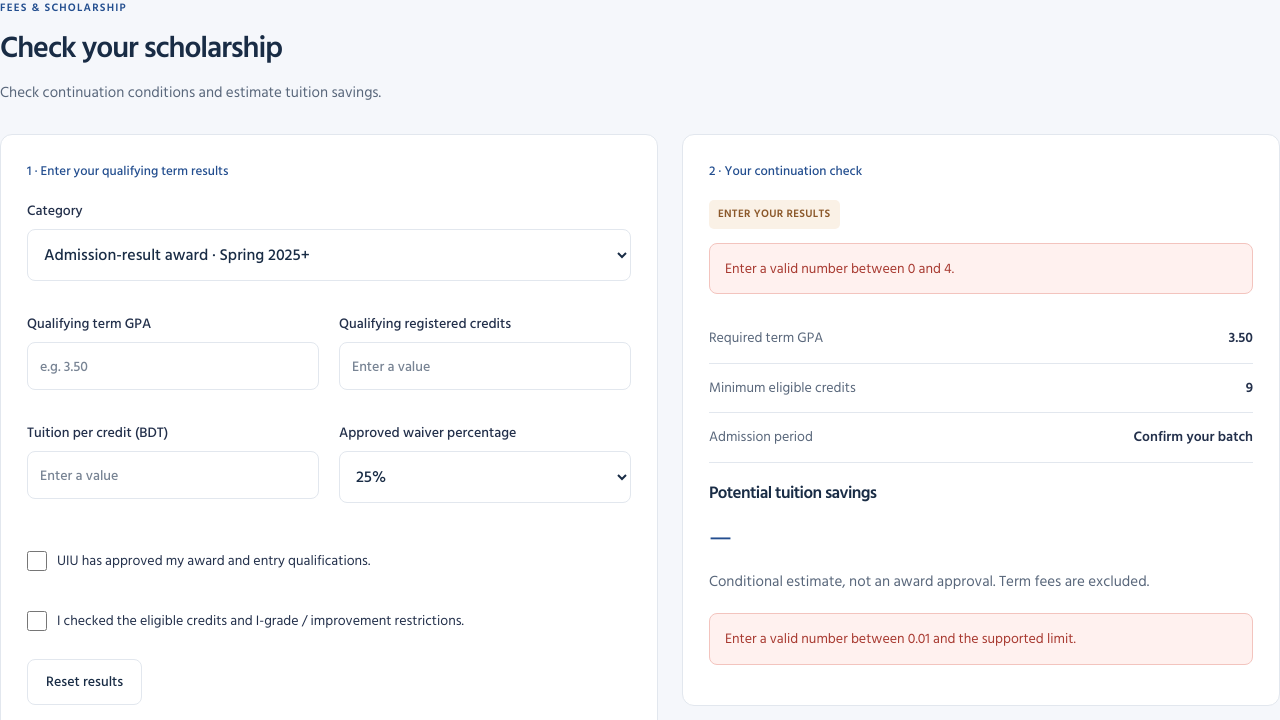
it: waiver savings use current inputs without a saved fee plan
In the number field labelled "Qualifying term GPA": (173, 366) [27, 342, 319, 390], type "3.7"
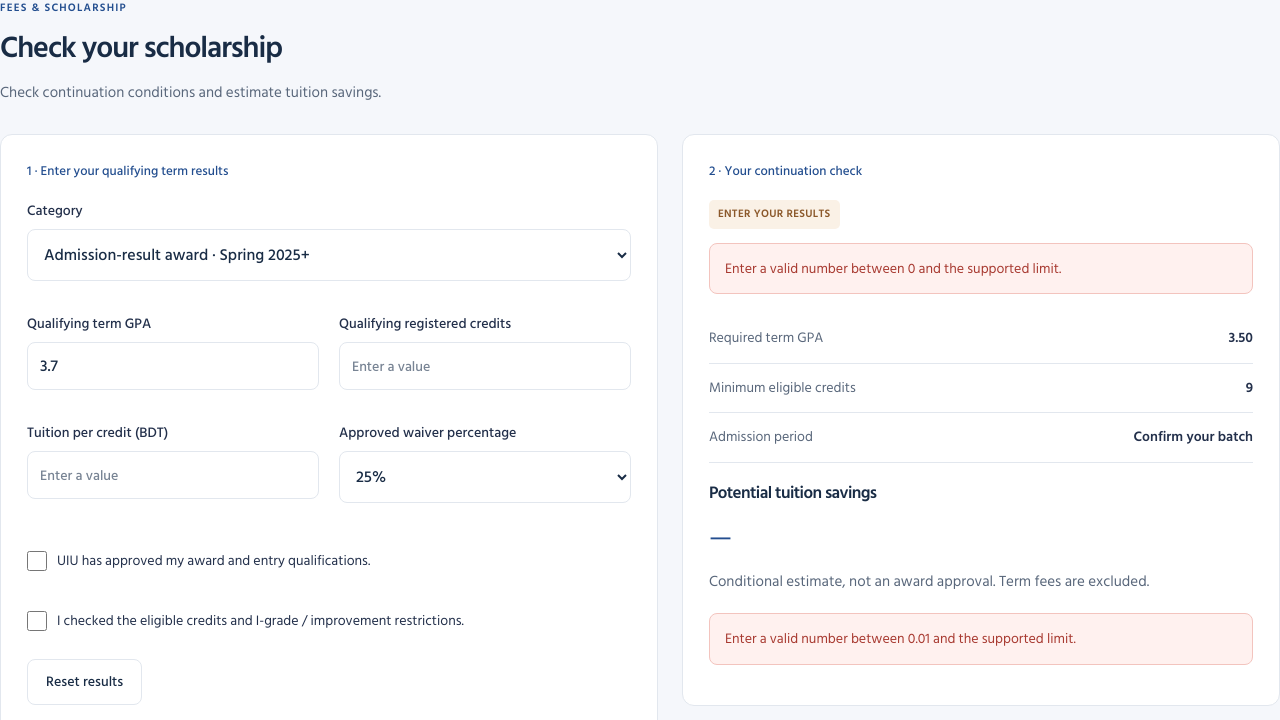
In the number field labelled "Qualifying registered credits": (485, 366) [339, 342, 631, 390], type "12"
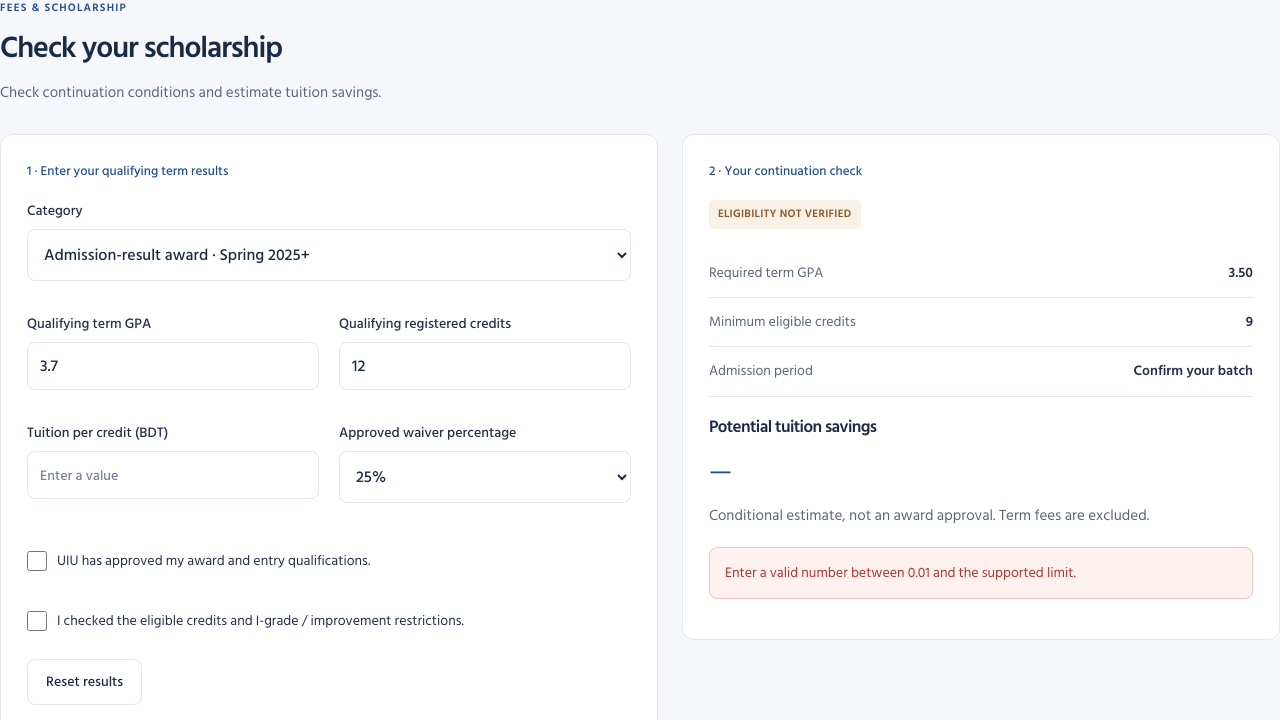
In the number field labelled "Tuition per credit (BDT)": (173, 475) [27, 451, 319, 499], type "6500"
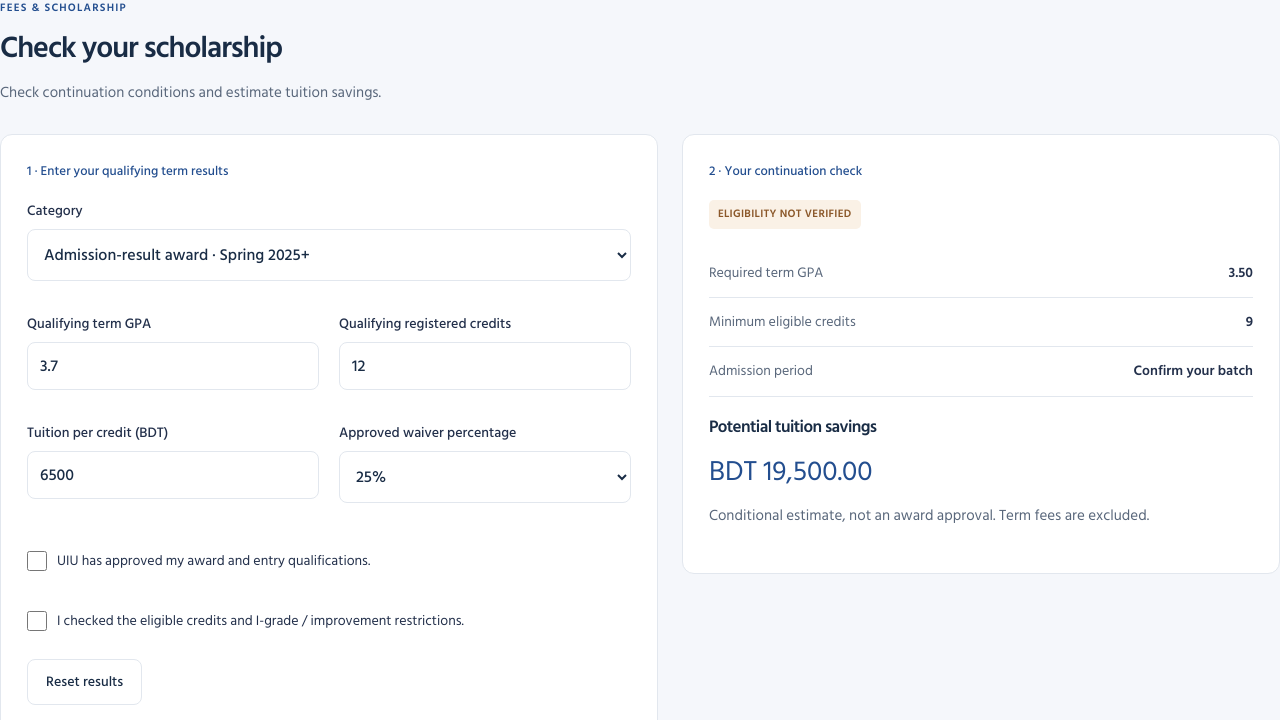
Expected: the text with test id "waiver-savings" shows "19,500", [709, 449, 872, 494]
Replace the text in the number field labelled "Qualifying registered credits" with "9": (485, 366) [339, 342, 631, 390]
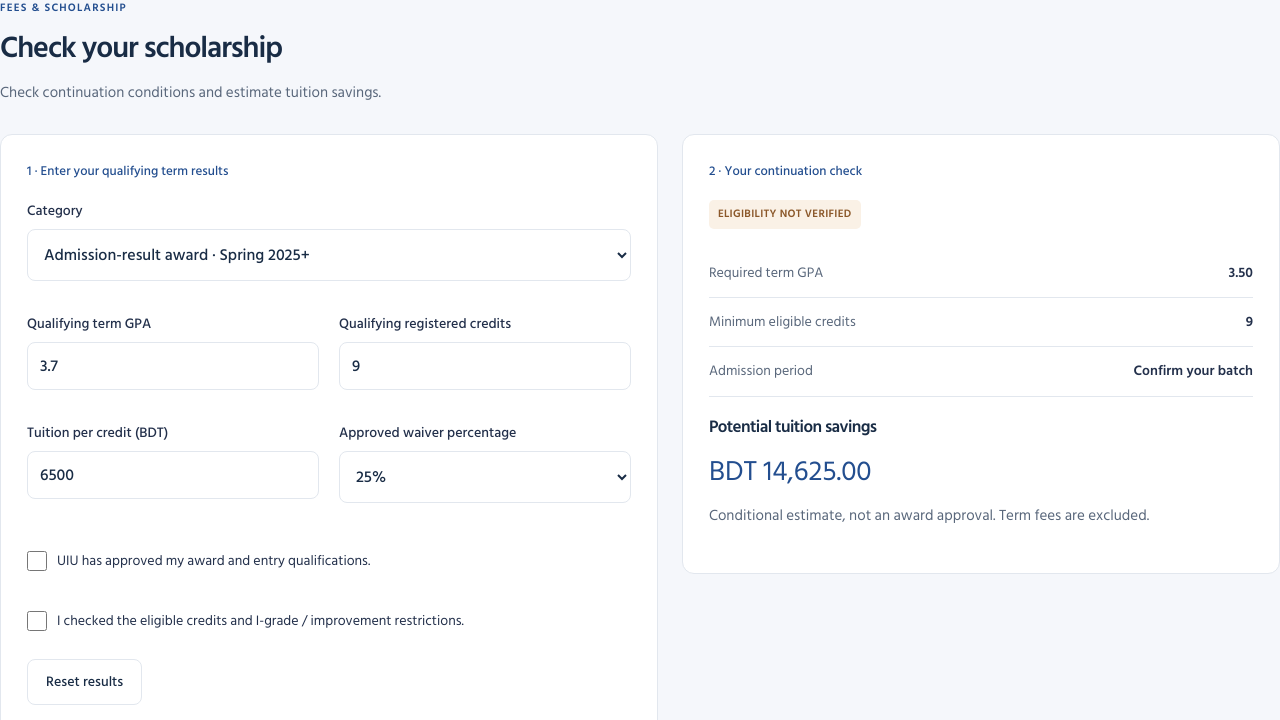
Expected: the text with test id "waiver-savings" shows "14,625", [709, 449, 872, 494]
Clear the number field labelled "Qualifying registered credits": (485, 366) [339, 342, 631, 390]
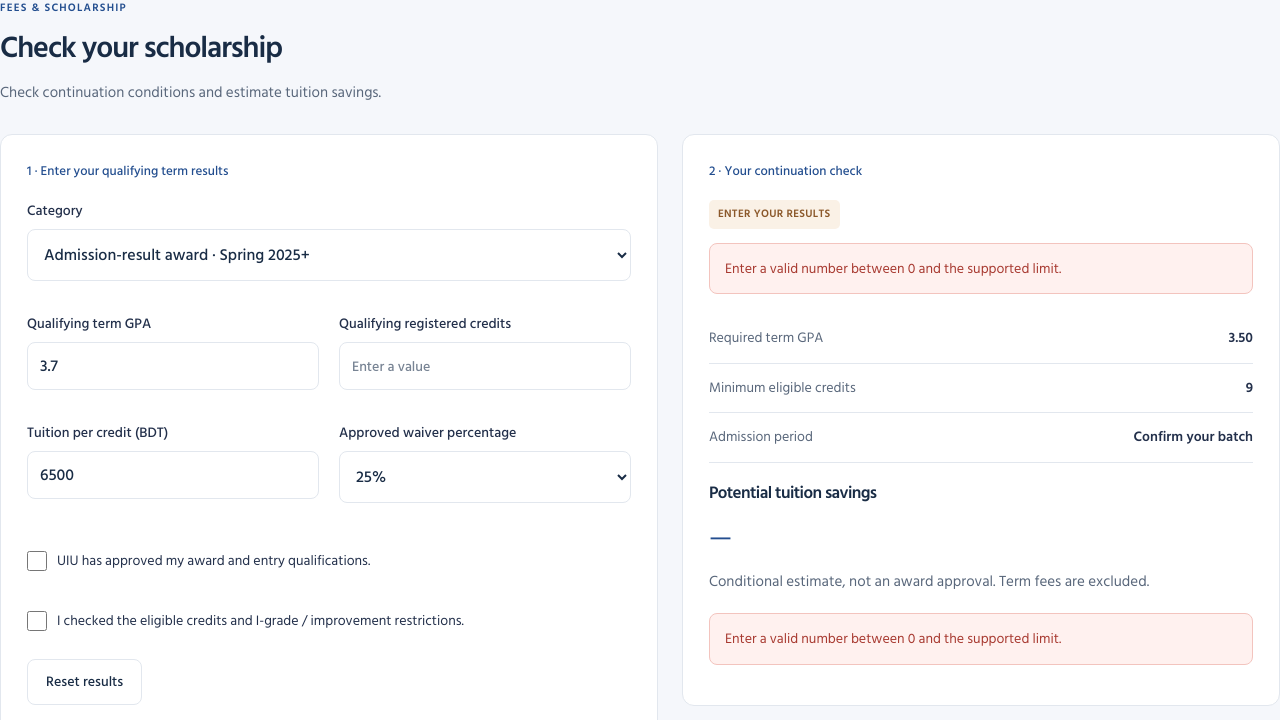
Expected: the text with test id "waiver-savings" reads "—", [709, 515, 732, 560]
